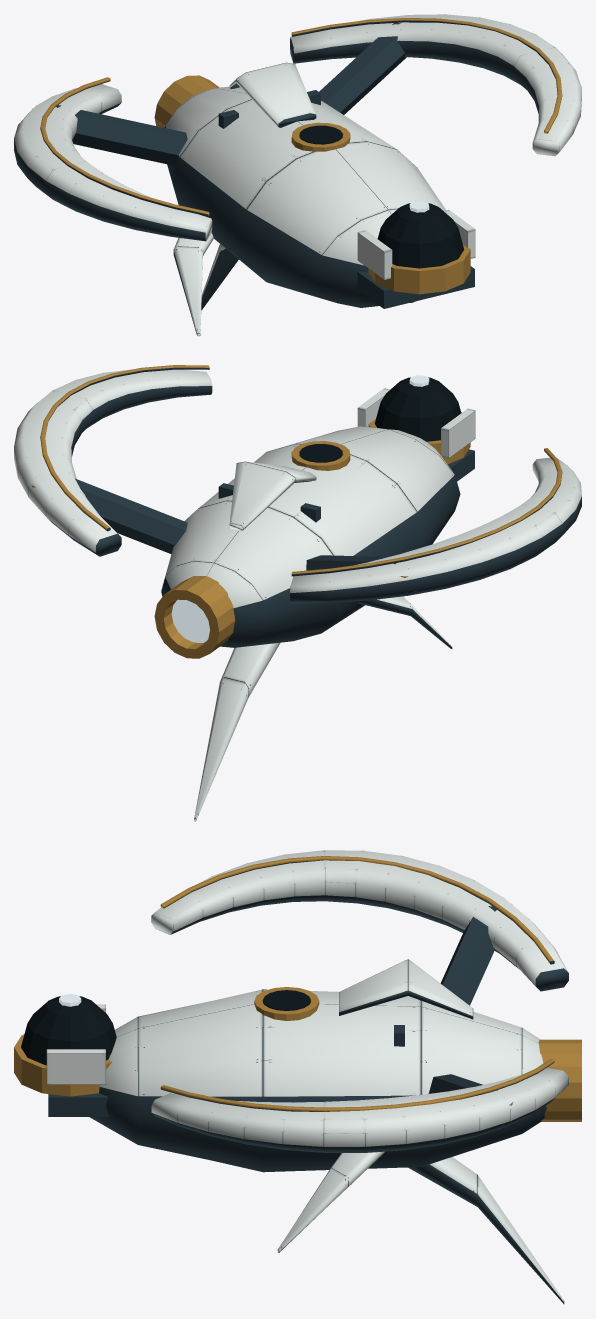
File: pioneer-europa-l07-shield.glb
The picture shows the model from 3 angles, top to bottom: view 1: azimuth 30°, elevation 25°; view 2: azimuth 150°, elevation 25°; view 3: azimuth 270°, elevation 25°; orthographic projection. The views are drawn at different scales.
Visible parts, largest first — view 1: Drone; view 2: Drone; view 3: Drone.
Part boxes in pixels (box(x1,y1,x2,y2)): Drone: box(14, 14, 581, 336); Drone: box(14, 365, 581, 821); Drone: box(14, 850, 581, 1304).
Bounding box in the file's own units: 1.51 × 0.8489 × 1.31.
Materials: 3 (3 with a texture image).
